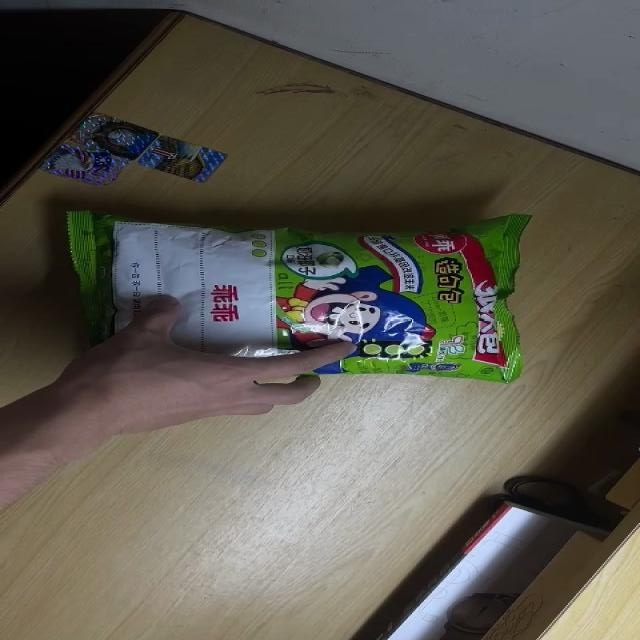Good-Luck: (64, 212, 533, 382)
